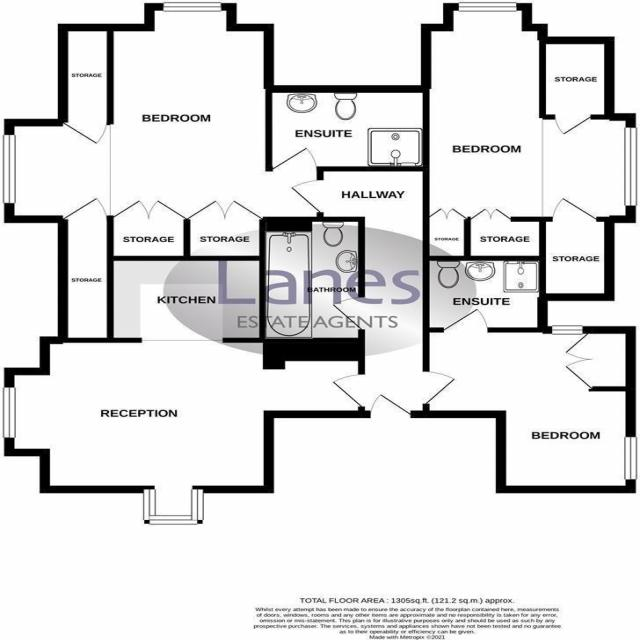DOOR: (422, 370, 458, 405), (330, 295, 365, 331), (330, 373, 365, 408), (290, 179, 324, 214), (271, 147, 318, 172), (369, 393, 412, 418)
ROOM: (2, 2, 324, 344), (2, 255, 365, 525), (422, 3, 635, 262), (422, 308, 638, 494)
WINDOW: (142, 488, 205, 525), (620, 123, 640, 210), (1, 134, 16, 205), (1, 386, 17, 439), (455, 0, 520, 13), (623, 436, 638, 481), (162, 1, 222, 12), (551, 325, 583, 336)
